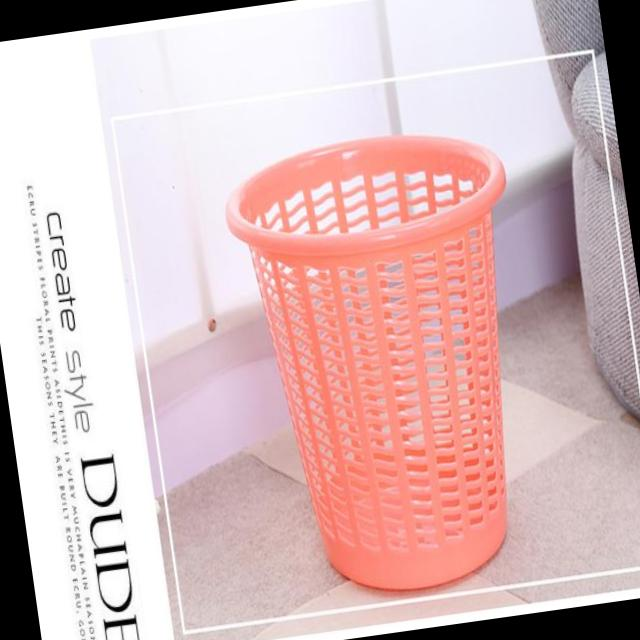dustbin: (213, 111, 566, 619)
